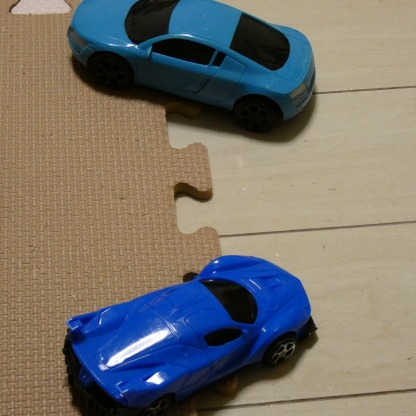car: (60, 252, 319, 415), (51, 0, 323, 143)
